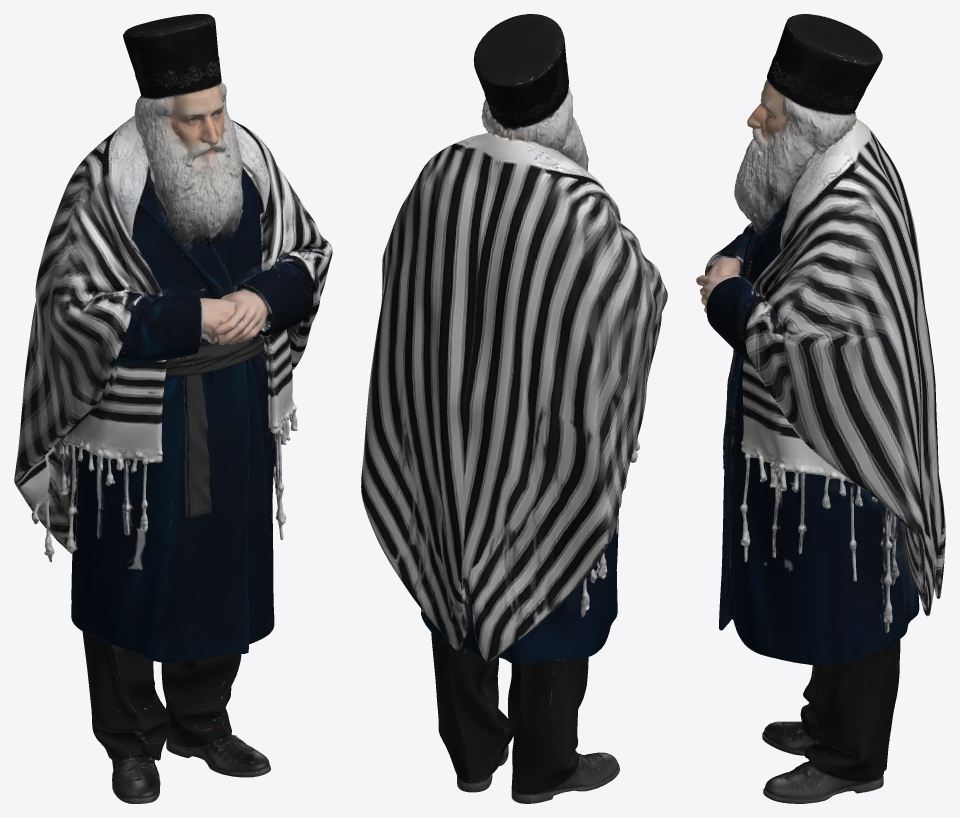
Rendered from alter_rebbe_viseme.glb.
3 renders of one model, left to right at view 1: azimuth 30°, elevation 25°; view 2: azimuth 150°, elevation 25°; view 3: azimuth 270°, elevation 25°, orthographic.
Bounding box in the file's own units: 0.7405 × 2 × 0.6039.
Materials: 1 (1 with a texture image).
